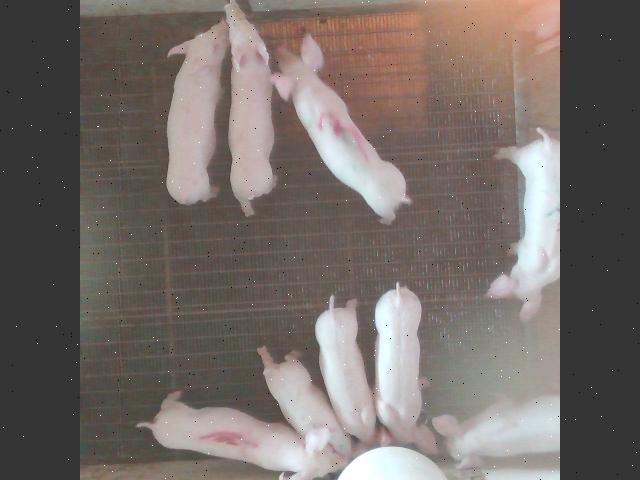pig-1: (138, 390, 348, 480)
pig-3: (271, 36, 409, 222)
